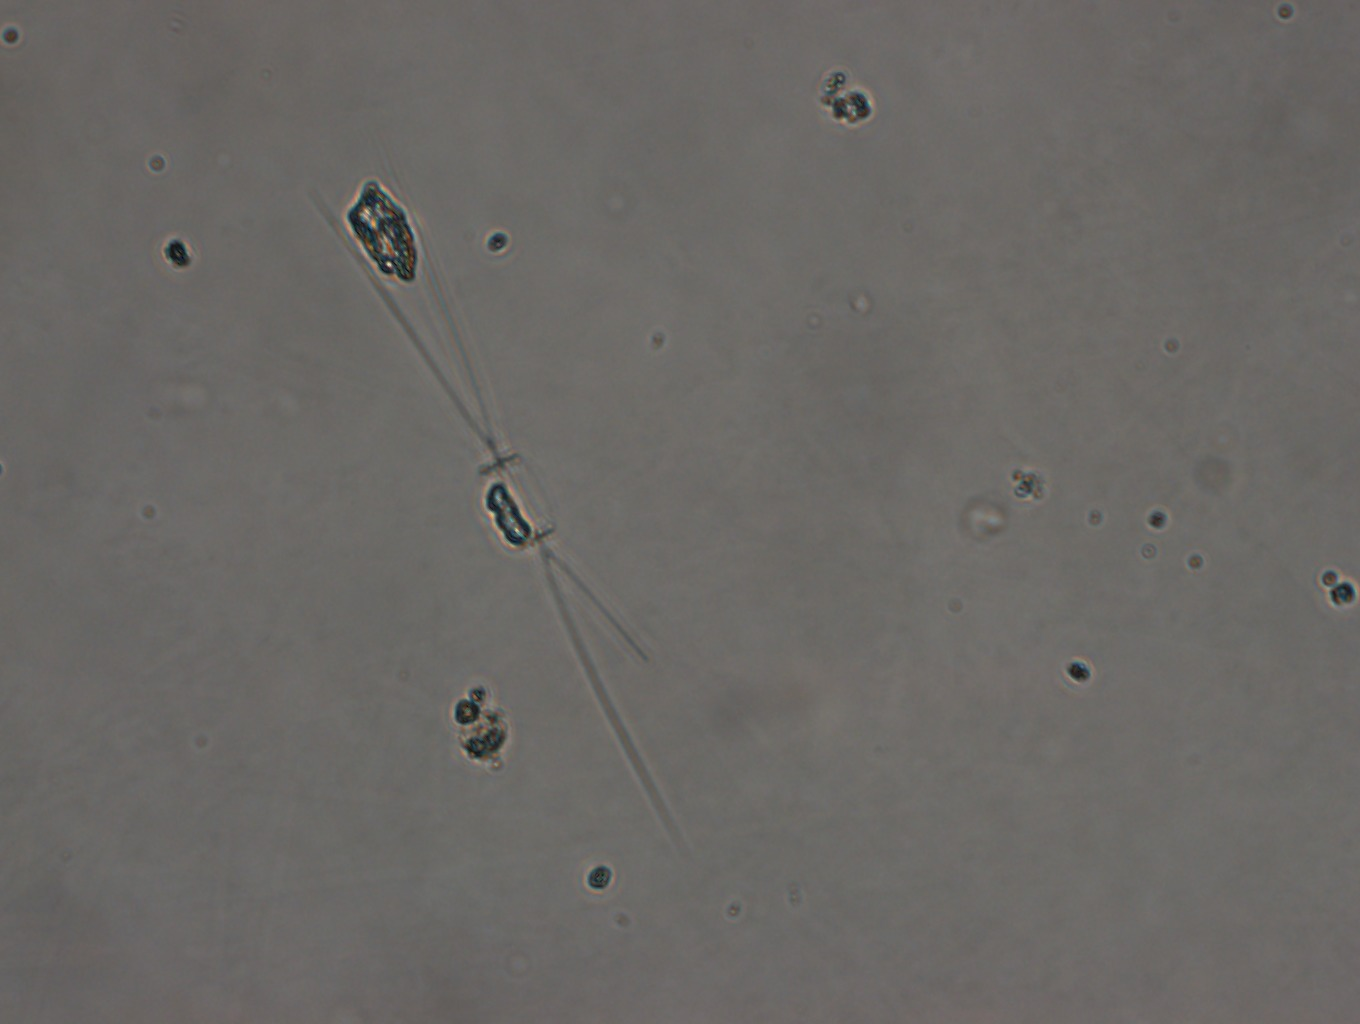chaetoceros: (300, 185, 668, 801)
